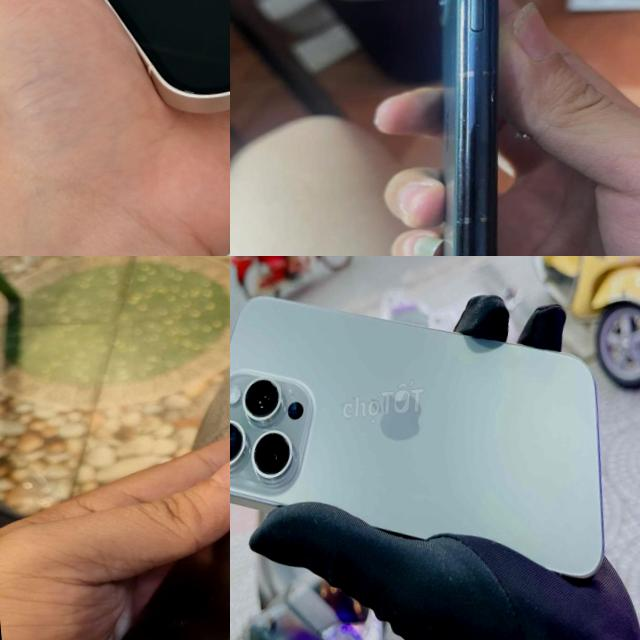scratch: (125, 597, 230, 640), (481, 53, 505, 110), (453, 204, 496, 233), (454, 104, 483, 132)
